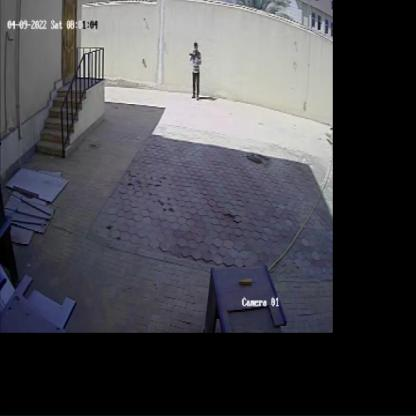handgun: (188, 45, 199, 67)
